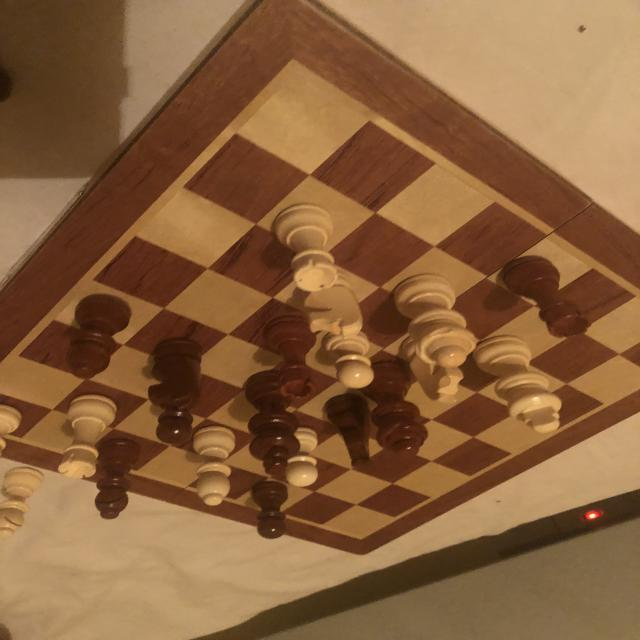black_bishop: (66, 294, 132, 379), (96, 439, 142, 522)
black_king: (250, 376, 298, 474)
black_knight: (331, 399, 375, 469)
black_pawn: (257, 482, 289, 538), (156, 410, 198, 445)
black_queen: (370, 369, 426, 455)
black_rook: (502, 255, 592, 338), (270, 323, 316, 397)
white_bishop: (195, 425, 237, 505), (0, 470, 43, 538)
white_king: (476, 336, 566, 433)
white_knight: (148, 340, 205, 409), (403, 357, 467, 402), (304, 289, 364, 336)
white_pawn: (328, 334, 380, 390), (287, 430, 324, 487)
white_queen: (397, 276, 477, 366)
white_rook: (273, 203, 341, 291), (56, 392, 118, 478)
